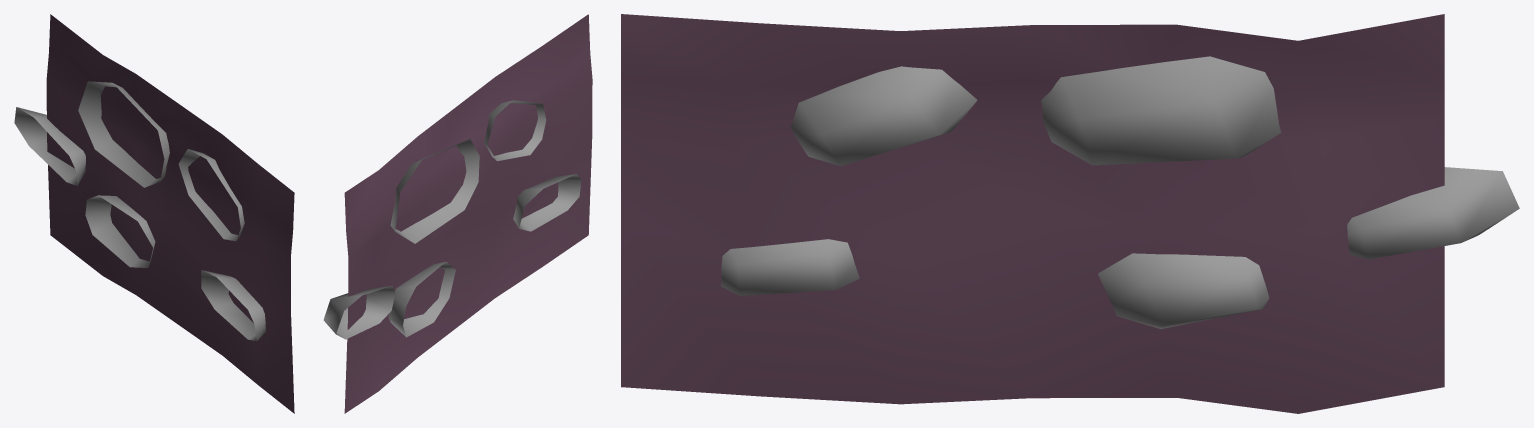
Rendered from forest_ledge-side-x2.fbx.
The picture shows the model from 3 angles, left to right: view 1: azimuth 30°, elevation 25°; view 2: azimuth 150°, elevation 25°; view 3: azimuth 270°, elevation 25°; orthographic projection. The views are drawn at different scales.
Visible parts, largest first — view 1: forest_ledge-side-x2.002; view 2: forest_ledge-side-x2.002; view 3: forest_ledge-side-x2.002.
Part boxes in pixels (bbox=[...]): forest_ledge-side-x2.002: bbox=[14, 14, 294, 413]; forest_ledge-side-x2.002: bbox=[323, 14, 592, 413]; forest_ledge-side-x2.002: bbox=[621, 14, 1519, 413].
Bounding box in the file's own units: 20.03 × 105 × 218.
